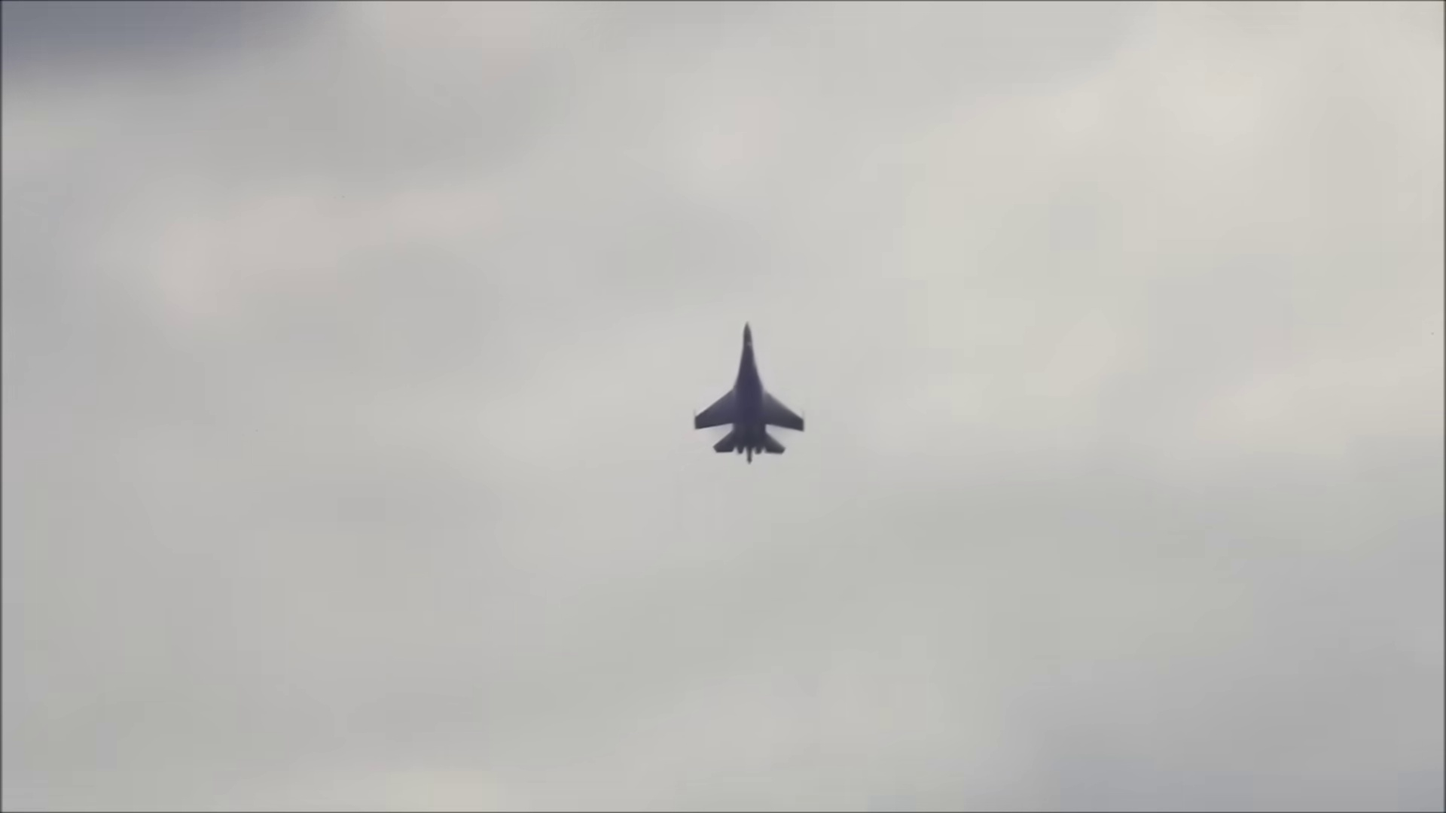Su35: (689, 322, 809, 468)
